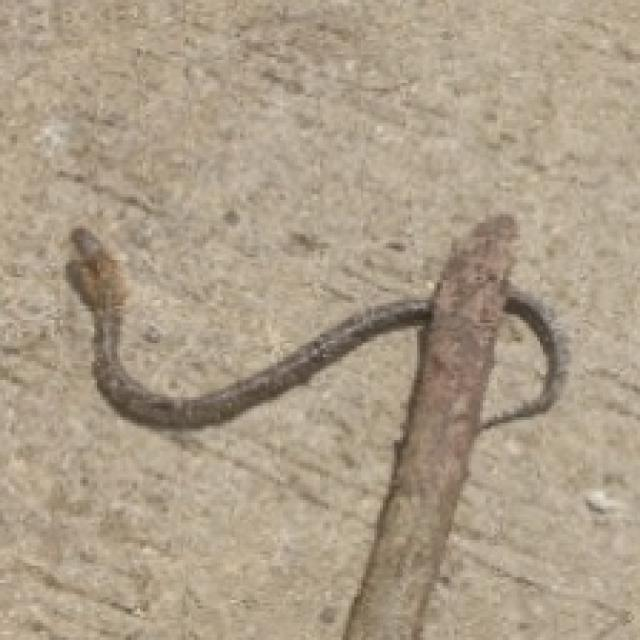philippine cobra: (66, 214, 566, 637), (66, 260, 434, 426), (477, 311, 546, 423)
